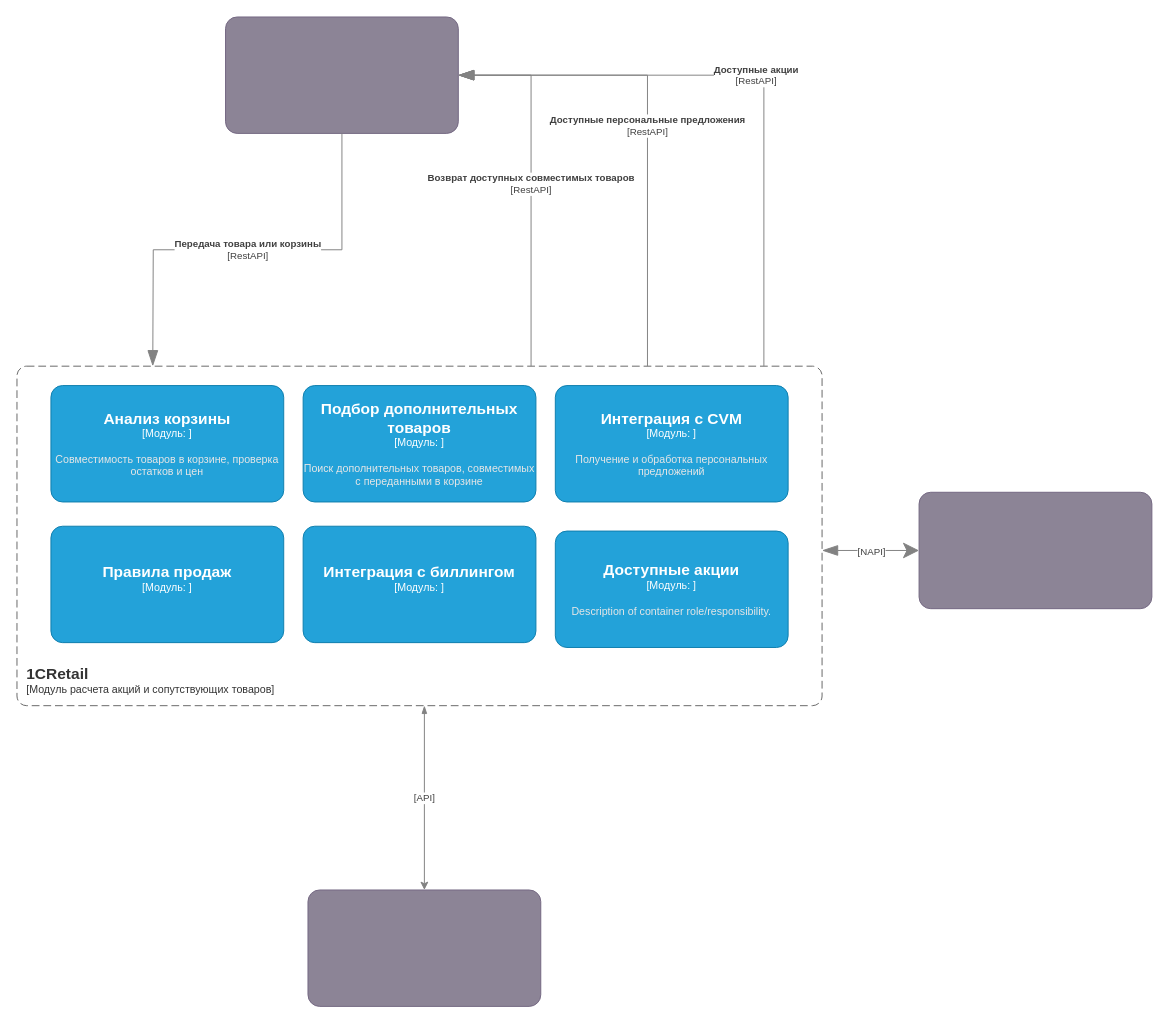
Some shapes in this 1169 by 1023 pixel diagram are drawn without their labels. Here are the shapes that lost their labels. From the top down, the centre of each, then its label:
At point (341, 74): "BeelinePRO []".
At point (1035, 550): "Ensemble [] Биллинговая система".
At point (424, 947): "Campaign Management []".
